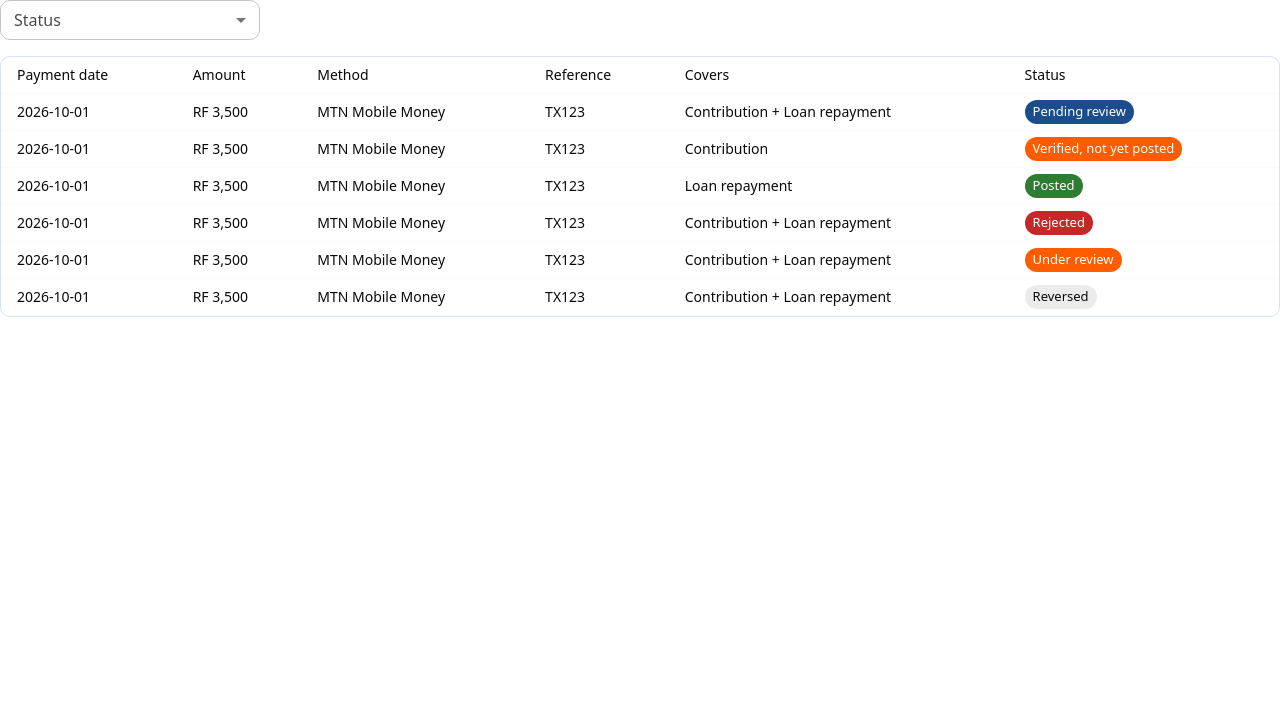
it: member payment history › shows the rejection reason and an empty state
Step 1. Click the text "Rejected" → (1059, 222), box [1032,213,1085,231]
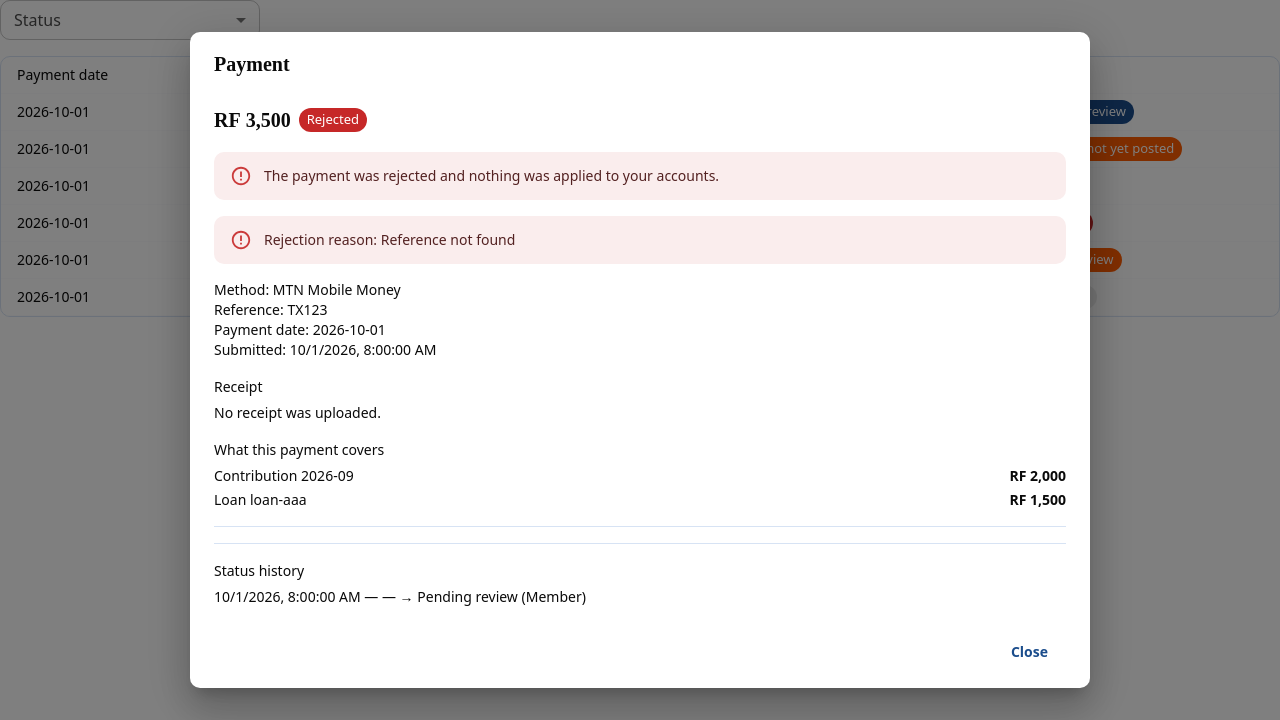
Check: the text "Rejection reason: Reference not found" is shown, box [264,230,515,249]
